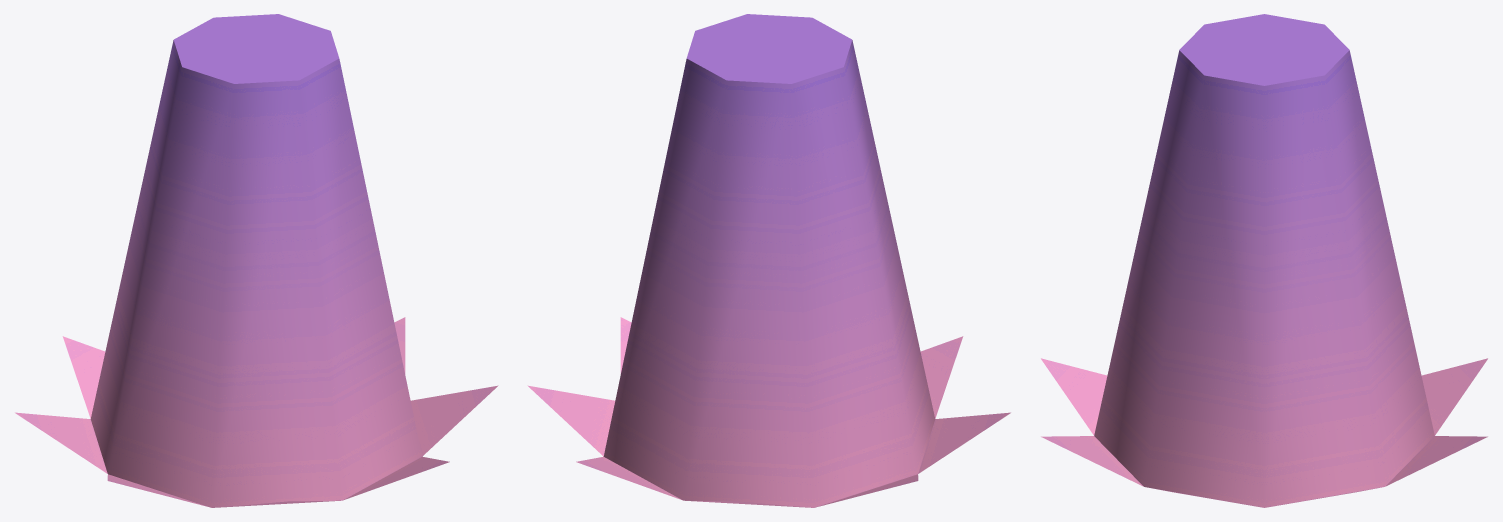
Rendered from enemy-ufo-beam-burst.glb.
3 renders of one model, left to right at view 1: azimuth 30°, elevation 25°; view 2: azimuth 150°, elevation 25°; view 3: azimuth 270°, elevation 25°, orthographic.
Parts seen in each view (by area): view 1: enemy-ufo-beam-burst; view 2: enemy-ufo-beam-burst; view 3: enemy-ufo-beam-burst.
Boxes of the visible parts, x1=… form: enemy-ufo-beam-burst: x1=15, y1=14, x2=498, y2=507; enemy-ufo-beam-burst: x1=527, y1=14, x2=1010, y2=507; enemy-ufo-beam-burst: x1=1041, y1=14, x2=1487, y2=507.
Size of the model in its own units: 1.05 by 1 by 1.05.
Materials: 1 (1 with a texture image).
